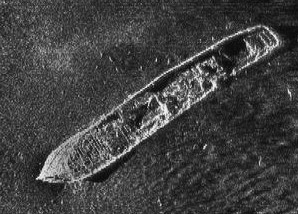ship: (42, 25, 280, 186)
